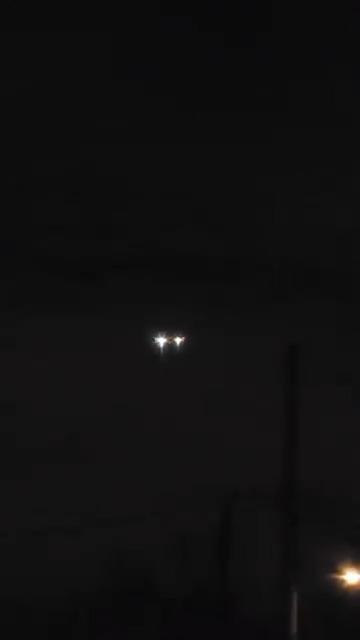Plane: (146, 319, 199, 361)
